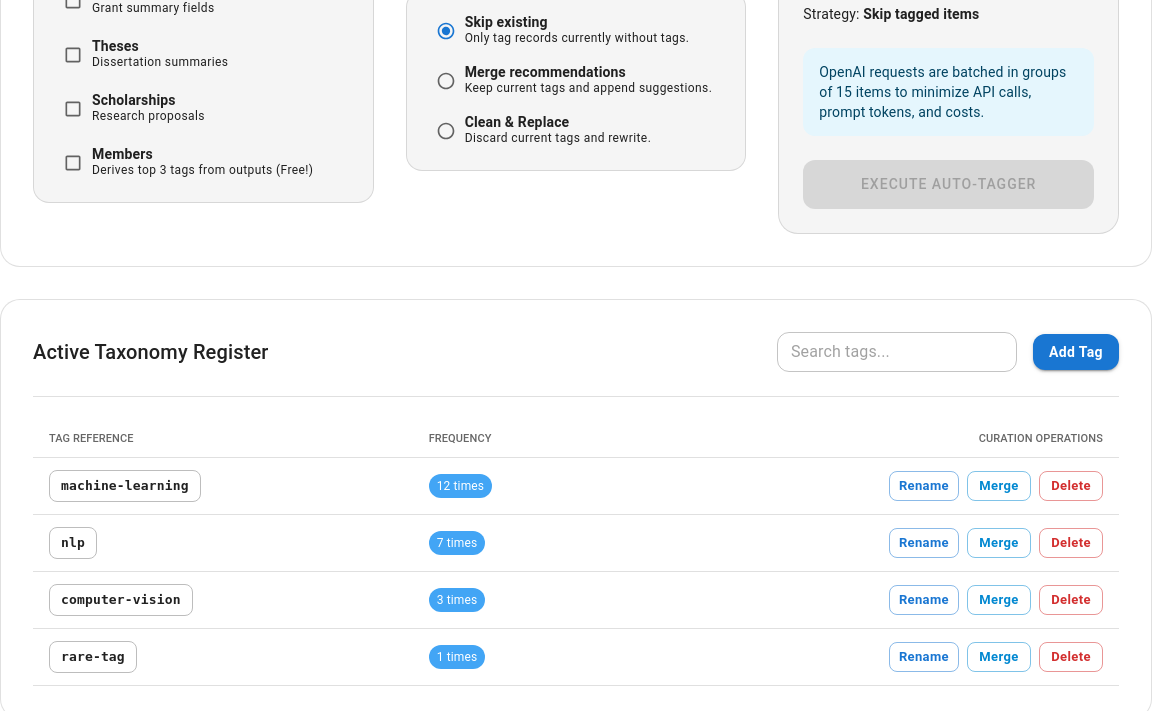
Test case: TagsCurationClient › shows no-match message when search has no results
(page scrolled)
Type "xyznonexistent" into the field with placeholder "Search tags...". click: coordinates (897, 352)
box: [777,332,1017,372]
(page scrolled)
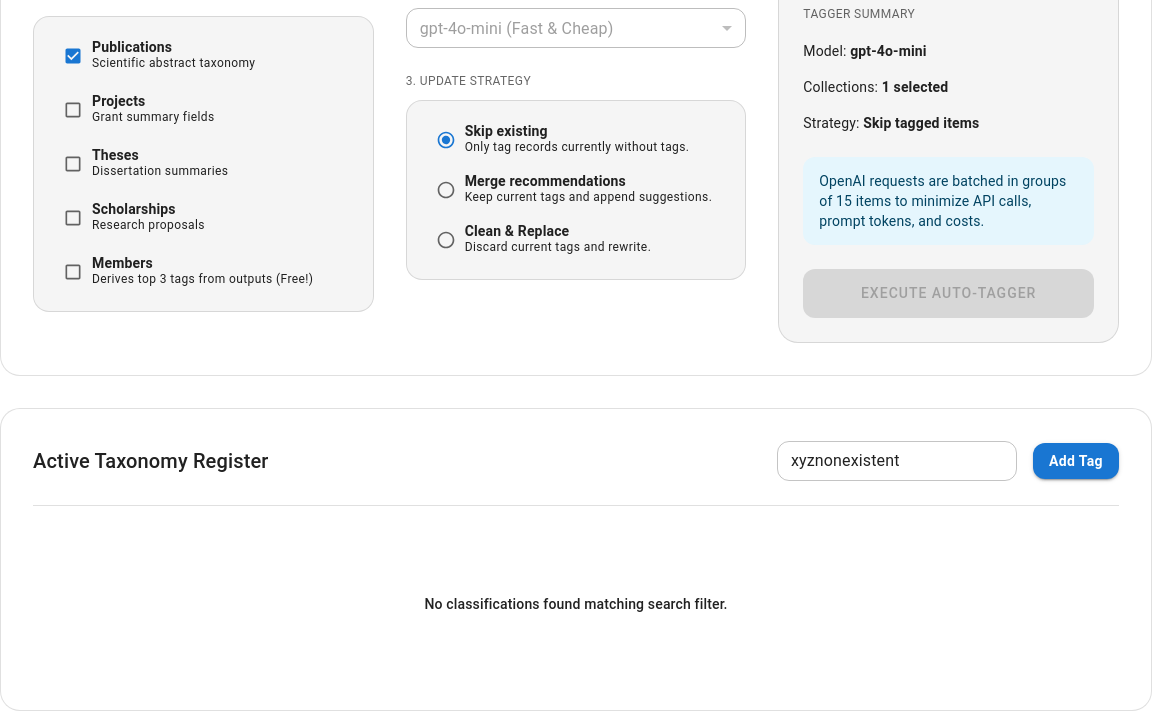
Now the text "No classifications found matching search filter." is shown, box [424,596,728,612]
